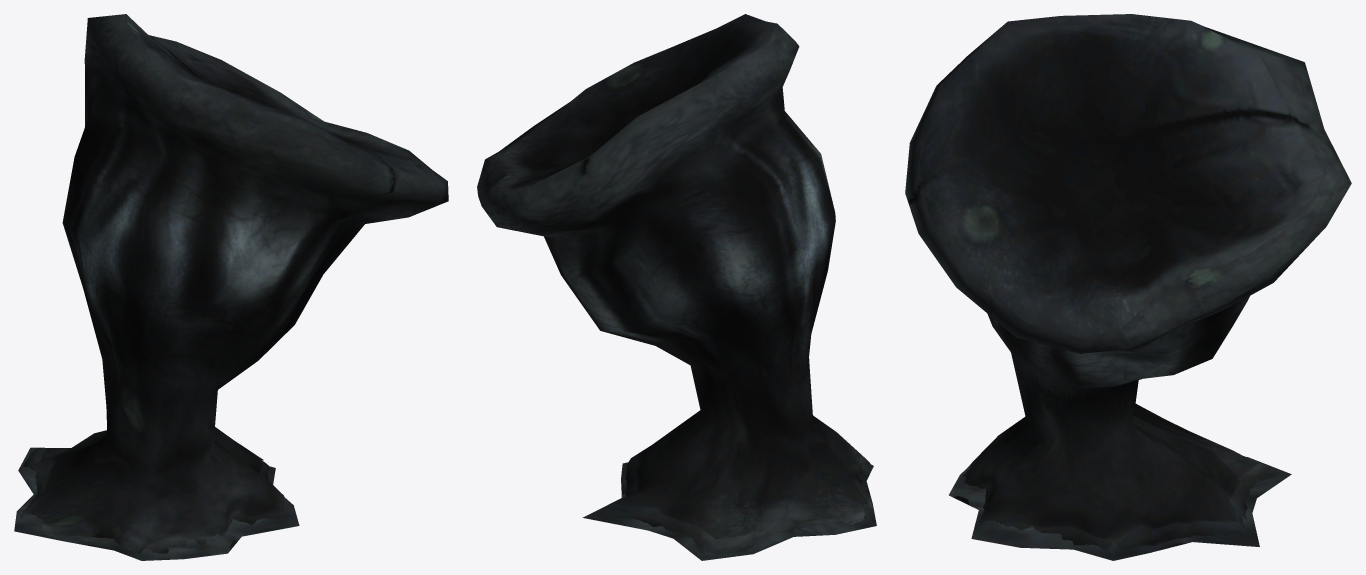
The model's file is poison_fungi_breakable.dae.
The picture shows the model from 3 angles, left to right: view 1: azimuth 30°, elevation 25°; view 2: azimuth 150°, elevation 25°; view 3: azimuth 270°, elevation 25°; orthographic projection. The views are drawn at different scales.
Parts seen in each view (by area): view 1: fungi; view 2: fungi; view 3: fungi.
Boxes of the visible parts, x1,y1,x2,y2 form: fungi: [14, 14, 448, 560]; fungi: [477, 14, 876, 560]; fungi: [905, 14, 1351, 560].
Size of the model in its own units: 0.6683 by 0.7031 by 0.5898.
